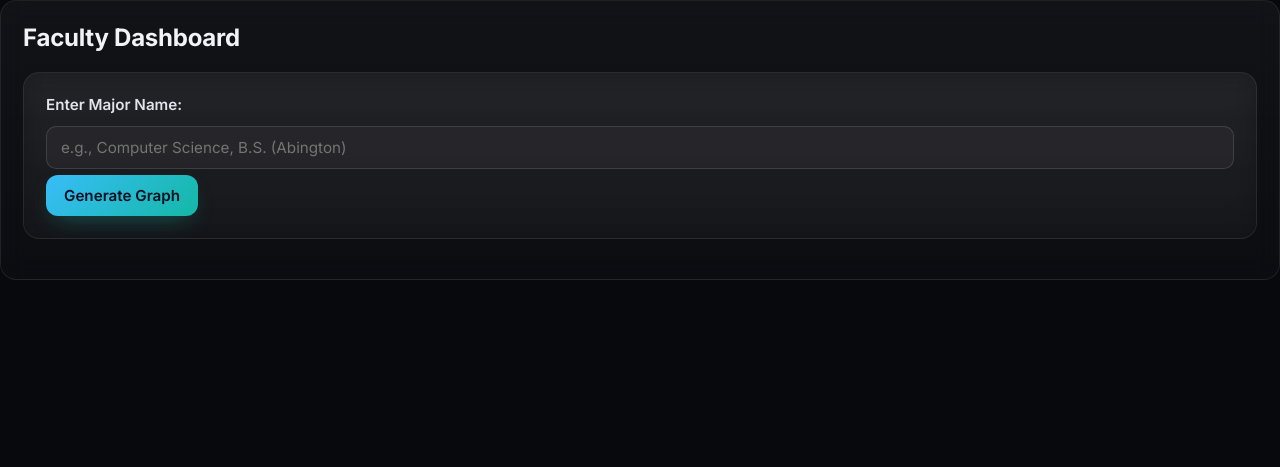
Test case: FacultyDashboard › requests a major graph and renders the returned image
Type "Computer Science, B.S. (Abington)" into the field labelled "Enter Major Name:" at (640, 147), box 46,126 -> 1234,169
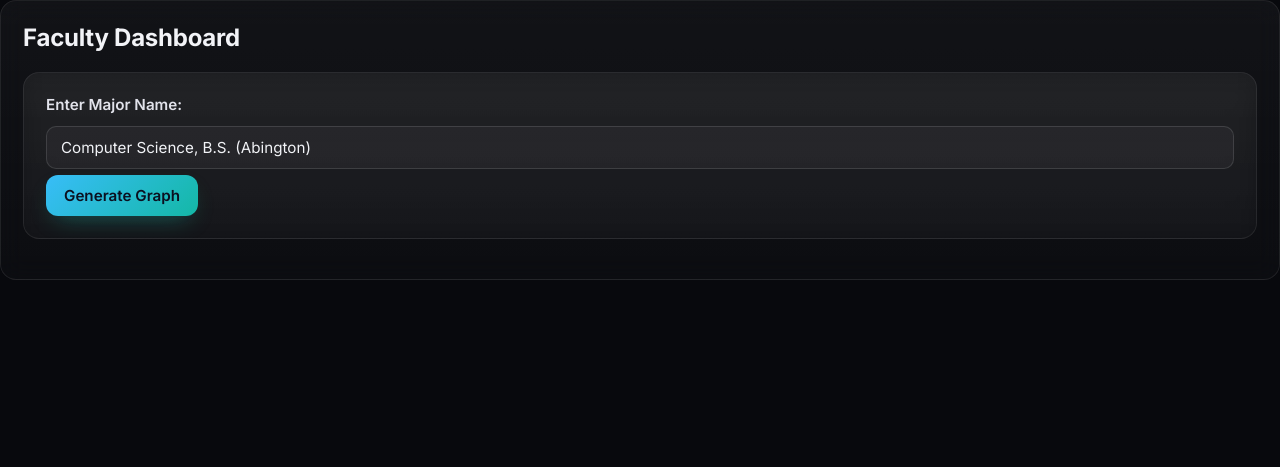
Click the button "Generate Graph" at (122, 195), box 46,175 -> 198,216
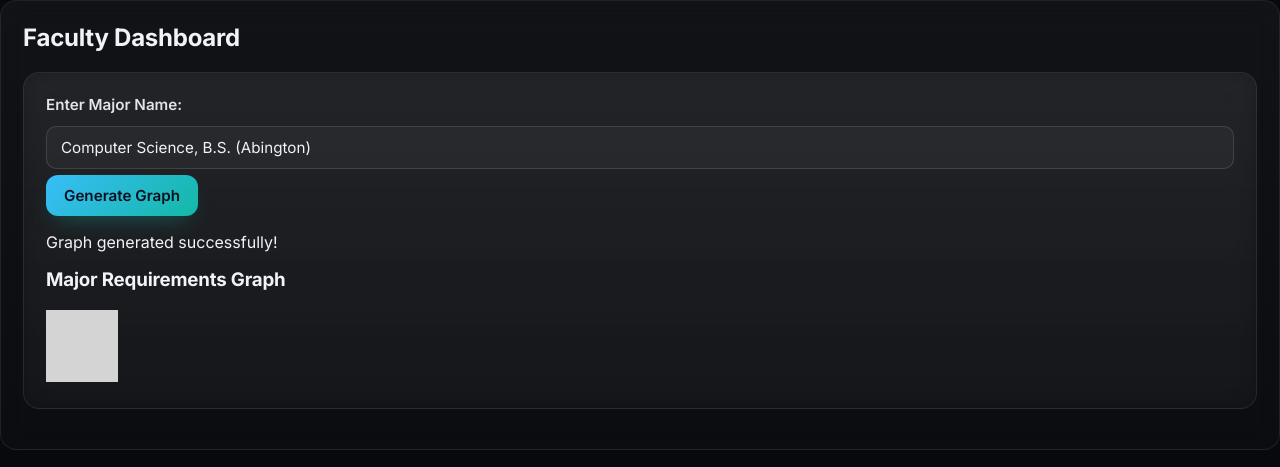
Now the text "Graph generated successfully!" is shown, box 46,232 -> 278,252
